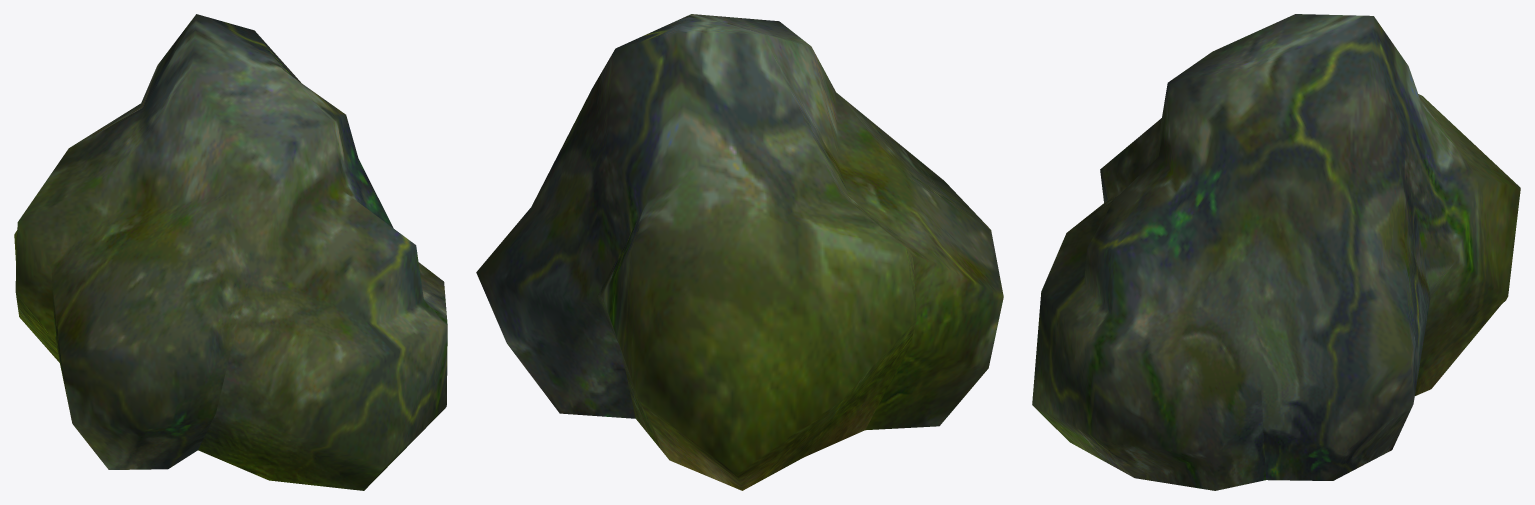
The model's file is 10204_stone05.FBX.
3 renders of one model, left to right at view 1: azimuth 30°, elevation 25°; view 2: azimuth 150°, elevation 25°; view 3: azimuth 270°, elevation 25°, orthographic. The views are drawn at different scales.
Parts seen in each view (by area): view 1: 10204_stone05; view 2: 10204_stone05; view 3: 10204_stone05.
Boxes of the visible parts, bbox=[...] form: 10204_stone05: bbox=[14, 14, 447, 490]; 10204_stone05: bbox=[476, 14, 1003, 490]; 10204_stone05: bbox=[1032, 14, 1520, 490].
Size of the model in its own units: 194 by 185 by 198.
